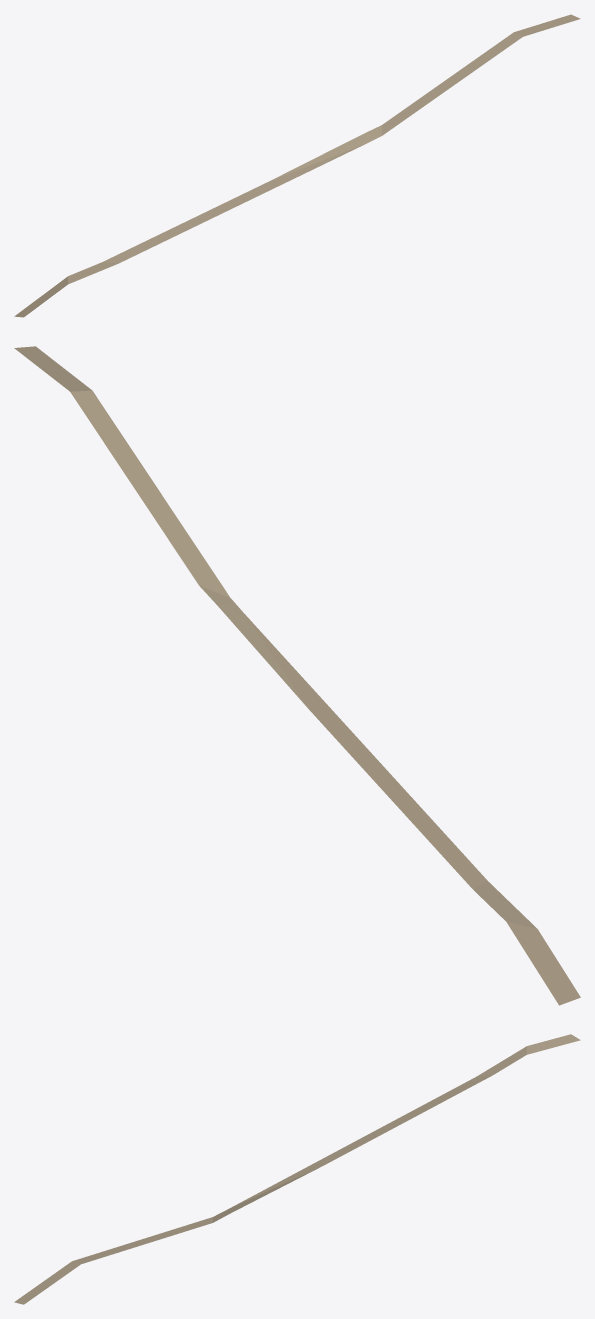
The model's file is farm_-35_-27_track.glb.
3 renders of one model, top to bottom at view 1: azimuth 90°, elevation 25°; view 2: azimuth 150°, elevation 25°; view 3: azimuth 270°, elevation 25°, orthographic. The views are drawn at different scales.
Parts seen in each view (by area): view 1: geometry_0; view 2: geometry_0; view 3: geometry_0.
Boxes of the visible parts, left/top/right/bottom form: geometry_0: left=14, top=14, right=580, bottom=317; geometry_0: left=14, top=346, right=580, bottom=1005; geometry_0: left=14, top=1034, right=580, bottom=1304.
Bounding box in the file's own units: 173 × 8.48 × 145.
